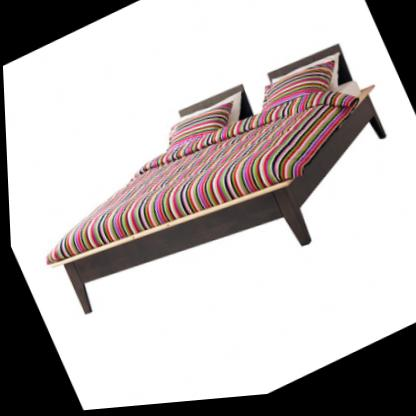Bed: (8, 20, 416, 354)
